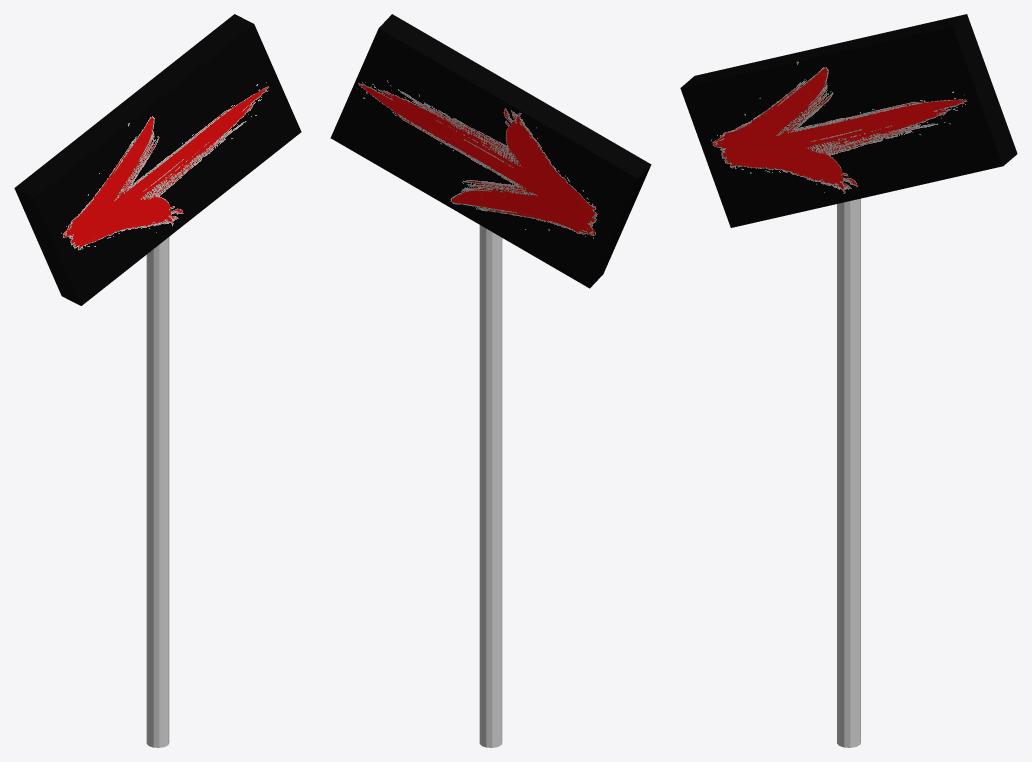
File: strelka.glb
The picture shows the model from 3 angles, left to right: view 1: azimuth 30°, elevation 25°; view 2: azimuth 150°, elevation 25°; view 3: azimuth 330°, elevation 25°; orthographic projection. The views are drawn at different scales.
Parts seen in each view (by area): view 1: Cube, Cylinder; view 2: Cube, Cylinder; view 3: Cube, Cylinder.
Part boxes in pixels (bbox=[...]): Cube: bbox=[14, 14, 301, 305]; Cylinder: bbox=[146, 237, 169, 747]; Cube: bbox=[330, 14, 651, 288]; Cylinder: bbox=[479, 225, 502, 747]; Cube: bbox=[680, 14, 1017, 227]; Cylinder: bbox=[837, 198, 860, 747].
Size of the model in its own units: 2.22 by 5.12 by 0.4561.
Materials: 1 (1 with a texture image).
